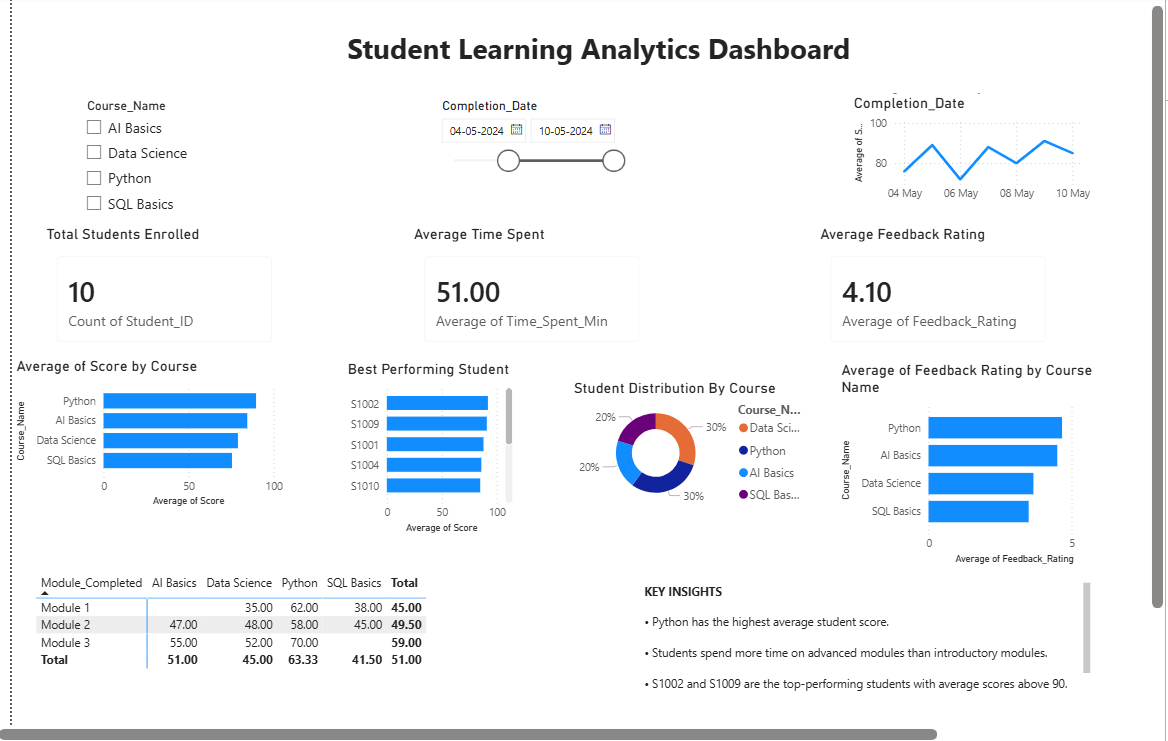

The dashboard page shown, as its layout file describes it:
{"tool":"powerbi","page":{"name":"Page 1","canvas":[1600,1000],"ordinal":0},"visuals":[{"type":"clusteredBarChart","title":"Average of Score by Course","fields":{"Category":["student_data.Course_Name"],"Y":["Avg(student_data.Score)"]},"box":[0,413,314.2,175.6],"z":0},{"type":"pivotTable","fields":{"Rows":["student_data.Module_Completed"],"Columns":["student_data.Course_Name"],"Values":["Avg(student_data.Time_Spent_Min)"]},"box":[22.9,654.3,471.4,135.7],"z":1000},{"type":"donutChart","title":"Student Distribution By Course","fields":{"Category":["student_data.Course_Name"],"Y":["CountNonNull(student_data.Student_ID)"]},"box":[637.1,437.1,278.6,151.4],"z":2000},{"type":"lineChart","fields":{"Y":["Avg(student_data.Score)"],"Category":["student_data.Completion_Date"]},"box":[957.1,92.9,280,151.4],"z":3000},{"type":"cardVisual","title":"Average Feedback Rating","fields":{"Data":["Avg(student_data.Feedback_Rating)"]},"box":[918.6,261.4,280,151.4],"z":4000},{"type":"cardVisual","title":"Total Students Enrolled","fields":{"Data":["Count(student_data.Student_ID)"]},"box":[34.3,261.4,280,151.4],"z":5000},{"type":"cardVisual","title":"Average Time Spent","fields":{"Data":["Avg(student_data.Time_Spent_Min)"]},"box":[454.3,261.4,280,151.4],"z":6000},{"type":"slicer","fields":{"Values":["student_data.Course_Name"]},"box":[72.9,111.4,140,150],"z":7000},{"type":"slicer","fields":{"Values":["student_data.Completion_Date"]},"box":[478.6,111.4,230,150],"z":8000},{"type":"textbox","box":[46.7,32.9,1181.5,78.2],"z":9000},{"type":"clusteredBarChart","title":"Best Performing Student","fields":{"Y":["Avg(student_data.Score)"],"Category":["student_data.Student_ID"]},"box":[378.6,415.7,198.6,202.9],"z":9001},{"type":"clusteredBarChart","title":"Average of Feedback Rating by Course Name","fields":{"Category":["student_data.Course_Name"],"Y":["Avg(student_data.Feedback_Rating)"]},"box":[942.9,417.1,310,237.1],"z":9002},{"type":"textbox","box":[717.1,665.7,520,151.4],"z":9003}]}

Visuals, with their boxes in screenshot pixels (x1, y1, x2, y2), scaled from the page's 1600x1000 canvas onto the 1168x741 screenshot:
"Average of Score by Course" clusteredBarChart: bbox(0, 306, 229, 436)
pivotTable - student_data.Module_Completed x student_data.Course_Name: bbox(17, 485, 361, 585)
"Student Distribution By Course" donutChart: bbox(465, 324, 668, 436)
lineChart - Avg(student_data.Score) x student_data.Completion_Date: bbox(699, 69, 903, 181)
"Average Feedback Rating" cardVisual: bbox(671, 194, 875, 306)
"Total Students Enrolled" cardVisual: bbox(25, 194, 229, 306)
"Average Time Spent" cardVisual: bbox(332, 194, 536, 306)
slicer - student_data.Course_Name: bbox(53, 83, 155, 194)
slicer - student_data.Completion_Date: bbox(349, 83, 517, 194)
textbox: bbox(34, 24, 897, 82)
"Best Performing Student" clusteredBarChart: bbox(276, 308, 421, 458)
"Average of Feedback Rating by Course Name" clusteredBarChart: bbox(688, 309, 915, 485)
textbox: bbox(523, 493, 903, 605)
